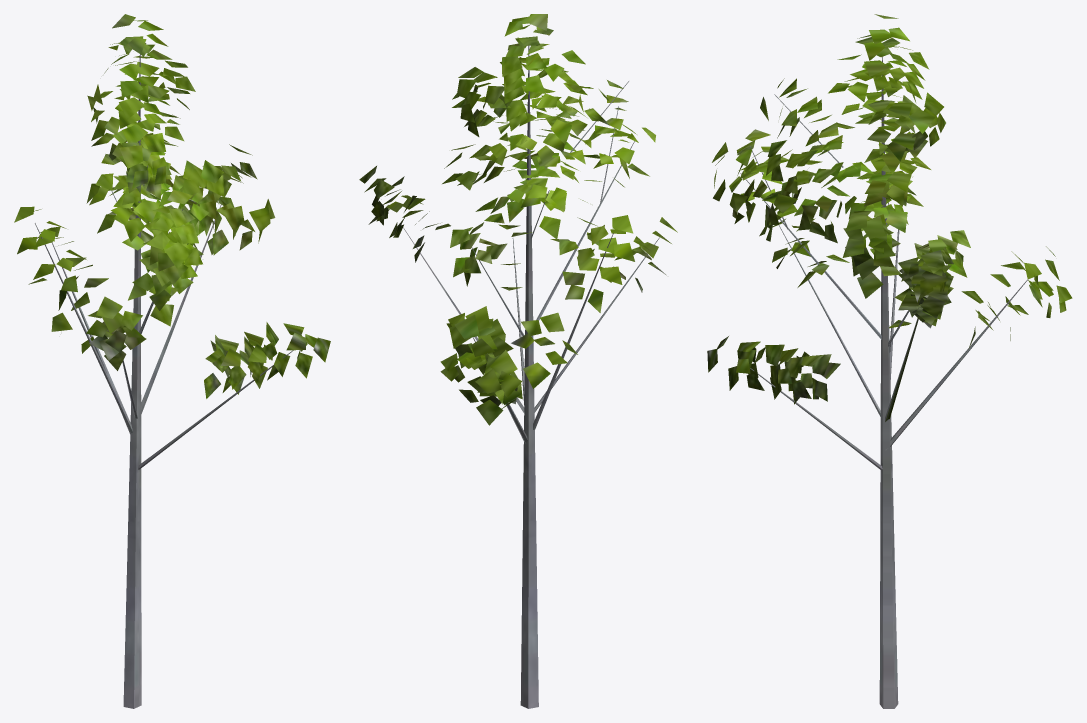
The model's file is cay-tram.glb.
3 views of the same model, side by side, from view 1: azimuth 30°, elevation 25°; view 2: azimuth 150°, elevation 25°; view 3: azimuth 270°, elevation 25° (orthographic).
Parts seen in each view (by area): view 1: CayTram; view 2: CayTram; view 3: CayTram.
Part boxes in pixels (box(x1,y1,x2,y2)): CayTram: box(14, 14, 330, 708); CayTram: box(359, 14, 677, 708); CayTram: box(707, 14, 1072, 708).
Size of the model in its own units: 3.94 by 10.01 by 4.82.
2 materials, 2 textured.
